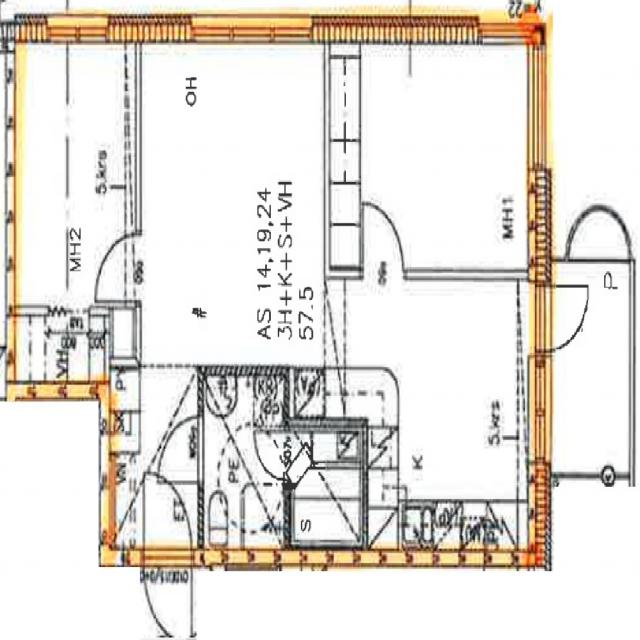door: (144, 470, 192, 567), (528, 286, 590, 352), (363, 203, 404, 280), (158, 417, 204, 484), (96, 235, 141, 301), (256, 433, 293, 480)
